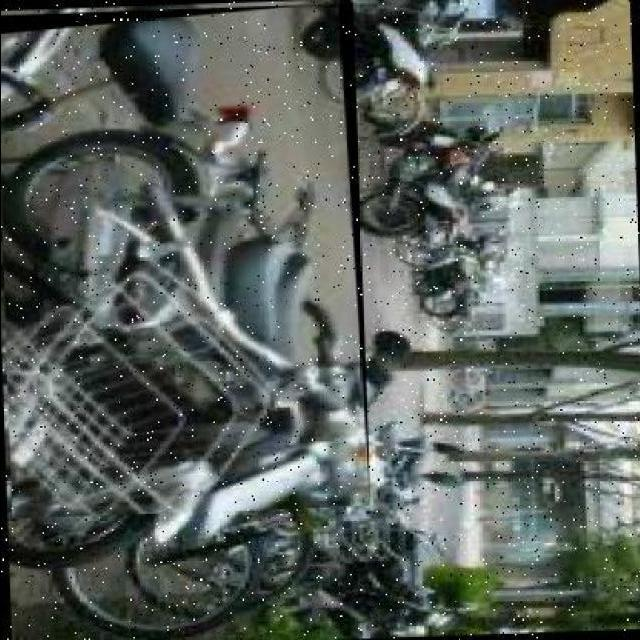bicycle: (3, 1, 371, 519)
